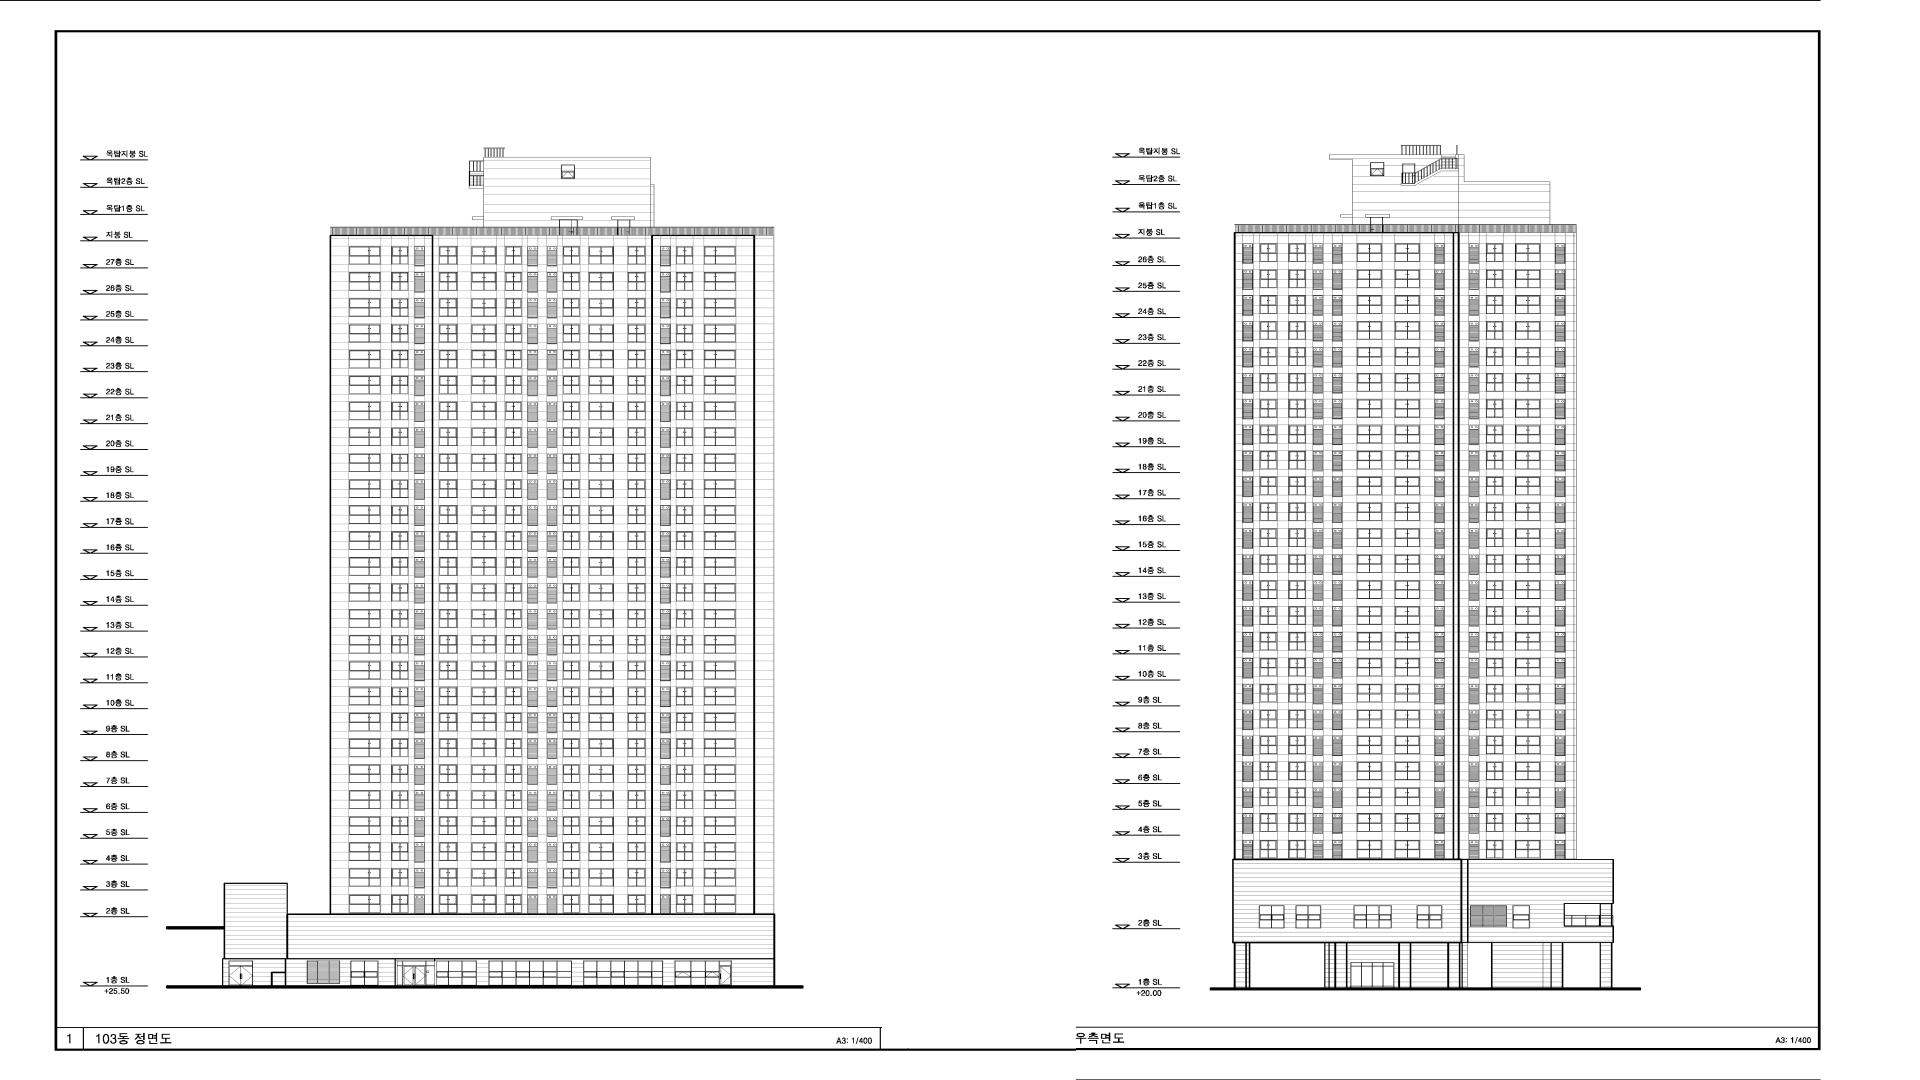door: (1250, 943, 1324, 988), (1563, 943, 1600, 988), (228, 960, 253, 985), (402, 961, 426, 985), (559, 219, 578, 236), (1402, 164, 1415, 183), (720, 965, 732, 985), (617, 219, 630, 235), (1370, 218, 1383, 232)
wall: (222, 157, 775, 989), (1232, 154, 1614, 990)
window: (1350, 963, 1394, 988), (674, 961, 719, 985), (436, 960, 477, 985), (516, 960, 556, 985), (1564, 903, 1601, 927), (1354, 906, 1391, 928), (307, 960, 340, 984), (1470, 906, 1506, 927), (351, 960, 378, 985), (488, 960, 516, 985), (583, 961, 611, 985), (611, 961, 638, 985), (348, 479, 381, 498), (348, 712, 381, 732), (704, 790, 736, 810), (704, 634, 736, 654), (704, 479, 736, 498), (704, 323, 736, 343), (704, 245, 736, 265), (348, 247, 381, 265), (348, 272, 381, 290), (348, 298, 381, 316), (348, 324, 381, 343), (348, 349, 381, 368), (348, 376, 381, 394), (348, 402, 381, 421), (348, 427, 381, 446), (348, 454, 381, 472), (348, 505, 381, 524), (348, 531, 381, 550), (348, 558, 381, 576), (348, 583, 381, 601), (348, 609, 381, 628), (348, 636, 381, 654), (348, 661, 381, 679), (348, 687, 381, 705), (348, 738, 381, 757), (348, 765, 381, 783), (348, 790, 381, 808), (348, 816, 381, 835), (348, 843, 381, 861), (348, 868, 381, 886), (348, 894, 381, 913), (638, 961, 663, 985), (1295, 906, 1321, 928), (704, 894, 736, 913), (704, 868, 736, 886), (704, 843, 736, 861), (704, 816, 736, 835), (704, 765, 736, 783), (704, 738, 736, 757), (704, 712, 736, 731), (704, 687, 736, 705), (704, 661, 736, 679), (704, 609, 736, 628), (704, 583, 736, 601), (704, 556, 736, 575), (704, 531, 736, 550), (704, 505, 736, 524), (704, 454, 736, 472), (704, 427, 736, 446), (704, 402, 736, 421), (704, 376, 736, 394), (704, 349, 736, 368), (704, 298, 736, 316), (704, 272, 736, 290), (1259, 906, 1284, 928), (1416, 906, 1441, 928), (471, 247, 497, 265), (471, 894, 497, 913), (471, 868, 497, 886), (471, 843, 497, 861), (471, 816, 497, 835), (471, 790, 497, 808), (471, 765, 497, 783), (471, 738, 497, 757), (471, 712, 497, 731), (471, 687, 497, 705), (471, 636, 497, 654), (471, 609, 497, 628), (471, 558, 497, 576), (471, 531, 497, 550), (471, 505, 497, 524), (471, 454, 497, 472), (471, 427, 497, 446), (471, 402, 497, 421), (471, 376, 497, 394), (471, 349, 497, 368), (471, 324, 497, 343), (471, 298, 497, 316), (471, 272, 497, 290), (588, 247, 615, 265), (588, 376, 615, 394), (588, 402, 615, 421), (588, 505, 615, 524), (588, 609, 615, 628), (588, 738, 615, 757), (588, 765, 615, 783), (588, 790, 615, 808), (1515, 269, 1542, 287), (1515, 322, 1542, 340), (1515, 425, 1542, 443), (1515, 554, 1542, 572), (1515, 684, 1542, 703), (1515, 787, 1542, 806), (1515, 814, 1542, 832), (1394, 840, 1420, 858), (1394, 787, 1420, 806), (1394, 425, 1420, 443), (1394, 400, 1420, 418), (1394, 373, 1420, 392), (1394, 347, 1420, 365), (1394, 269, 1420, 287), (471, 661, 496, 679), (471, 583, 496, 601), (471, 480, 496, 498), (588, 272, 613, 290), (588, 298, 613, 316), (588, 324, 613, 343), (588, 349, 613, 368), (588, 427, 613, 446), (588, 454, 613, 472), (588, 531, 613, 550), (588, 558, 613, 576), (588, 583, 613, 601), (588, 661, 613, 679), (588, 687, 613, 705), (588, 712, 613, 731), (588, 816, 613, 835), (588, 868, 613, 886), (588, 894, 613, 913), (1515, 244, 1540, 262), (1515, 295, 1540, 314), (1515, 347, 1540, 365), (1515, 373, 1540, 392), (1515, 451, 1540, 469), (1515, 476, 1540, 495), (1515, 502, 1540, 521), (1515, 529, 1540, 547), (1515, 580, 1540, 599), (1515, 607, 1540, 625), (1515, 632, 1540, 650), (1515, 709, 1540, 728), (1515, 736, 1540, 754), (1357, 451, 1382, 469), (1357, 476, 1382, 495), (1357, 502, 1382, 521), (1357, 529, 1382, 547), (1357, 580, 1382, 599), (1357, 632, 1382, 650), (1357, 658, 1382, 676), (1357, 684, 1382, 703), (1357, 709, 1382, 728), (1357, 736, 1382, 754), (1357, 787, 1382, 806), (1357, 840, 1382, 858), (1515, 840, 1540, 858), (1395, 761, 1420, 779), (1395, 736, 1420, 754), (1395, 709, 1420, 728), (1395, 684, 1420, 703), (1395, 658, 1420, 676), (1395, 632, 1420, 650), (1395, 607, 1420, 625), (1395, 580, 1420, 599), (1395, 554, 1420, 572), (1395, 529, 1420, 547), (1395, 502, 1420, 521), (1395, 476, 1420, 495), (1395, 451, 1420, 469), (1395, 322, 1420, 340), (1395, 295, 1420, 314), (1357, 269, 1382, 287), (1357, 295, 1382, 314), (1357, 322, 1382, 340), (1357, 347, 1382, 365), (1357, 373, 1382, 392), (1357, 400, 1382, 418), (1357, 425, 1382, 443), (1515, 400, 1542, 417), (1394, 244, 1420, 261), (588, 480, 613, 497), (588, 636, 613, 653), (588, 843, 613, 860), (1515, 658, 1540, 675), (1515, 762, 1540, 779), (1357, 555, 1382, 572), (1357, 607, 1382, 624), (1357, 762, 1382, 779), (1357, 814, 1382, 831), (1395, 814, 1420, 831), (1357, 244, 1382, 261), (1513, 906, 1531, 928), (628, 634, 646, 654), (626, 531, 646, 550), (628, 323, 646, 343), (628, 790, 646, 810), (558, 960, 572, 985), (628, 712, 646, 731), (628, 687, 646, 705), (628, 661, 646, 679), (628, 609, 646, 628), (628, 583, 646, 601), (628, 558, 646, 576), (628, 505, 646, 524), (628, 480, 646, 498), (628, 454, 646, 472), (628, 427, 646, 446), (628, 402, 646, 421), (628, 376, 646, 394), (628, 349, 646, 368), (628, 298, 646, 316), (628, 272, 646, 290), (628, 247, 646, 265), (439, 687, 458, 705), (439, 661, 458, 679), (439, 636, 458, 654), (439, 609, 458, 628), (439, 583, 458, 601), (439, 556, 458, 575), (439, 531, 458, 550), (439, 505, 458, 524), (439, 479, 458, 497), (439, 454, 458, 472), (439, 427, 458, 446), (439, 376, 458, 394), (439, 349, 458, 368), (439, 324, 458, 343), (439, 298, 458, 316), (439, 272, 458, 290), (439, 247, 458, 265), (675, 712, 694, 731), (628, 894, 646, 913), (628, 868, 646, 886), (628, 843, 646, 861), (628, 816, 646, 835), (628, 765, 646, 783), (628, 738, 646, 757), (439, 894, 458, 913), (439, 868, 458, 886), (439, 843, 458, 861), (439, 816, 458, 835), (439, 790, 458, 808), (439, 765, 458, 783), (439, 738, 458, 757), (439, 712, 458, 731), (1259, 761, 1278, 779), (1259, 658, 1278, 676), (1259, 607, 1278, 625), (1259, 502, 1278, 521), (676, 245, 694, 265), (392, 245, 409, 265), (392, 479, 409, 498), (392, 712, 409, 732), (1288, 554, 1305, 574), (1261, 243, 1278, 262), (676, 272, 694, 290), (676, 298, 694, 316), (676, 324, 694, 343), (676, 349, 694, 368), (676, 376, 694, 394), (676, 402, 694, 421), (676, 427, 694, 446), (676, 454, 694, 472), (676, 479, 694, 497), (676, 505, 694, 524), (676, 531, 694, 550), (676, 583, 694, 601), (676, 609, 694, 628), (676, 636, 694, 654), (439, 402, 458, 419), (392, 272, 409, 290), (392, 298, 409, 316), (392, 324, 409, 343), (392, 349, 409, 368), (392, 376, 409, 394), (392, 402, 409, 421), (392, 427, 409, 446), (392, 454, 409, 472), (392, 505, 409, 524), (392, 531, 409, 550), (392, 558, 409, 576), (392, 583, 409, 601), (392, 609, 409, 628), (392, 636, 409, 654), (392, 661, 409, 679), (676, 661, 694, 679), (676, 687, 694, 705), (676, 738, 694, 757), (676, 765, 694, 783), (676, 790, 694, 808), (676, 816, 694, 835), (676, 843, 694, 861), (676, 868, 694, 886), (676, 894, 694, 913), (563, 894, 580, 913), (563, 868, 580, 886), (563, 843, 580, 861), (563, 816, 580, 835), (563, 790, 580, 808), (563, 765, 580, 783), (563, 738, 580, 757), (563, 712, 580, 731), (563, 687, 580, 705), (563, 661, 580, 679), (563, 636, 580, 654), (563, 609, 580, 628), (563, 583, 580, 601), (563, 558, 580, 576), (563, 531, 580, 550), (563, 505, 580, 524), (563, 480, 580, 498), (563, 454, 580, 472), (563, 427, 580, 446), (563, 376, 580, 394), (563, 349, 580, 368), (563, 324, 580, 343), (563, 298, 580, 316), (563, 272, 580, 290), (392, 687, 409, 705), (392, 738, 409, 757), (392, 765, 409, 783), (392, 790, 409, 808), (392, 816, 409, 835), (392, 843, 409, 861), (392, 868, 409, 886), (392, 894, 409, 913), (563, 245, 580, 264), (505, 247, 522, 265), (505, 272, 522, 290), (505, 298, 522, 316), (505, 324, 522, 343), (505, 349, 522, 368), (505, 376, 522, 394), (505, 402, 522, 421), (505, 427, 522, 446), (505, 454, 522, 472), (505, 479, 522, 497), (505, 505, 522, 524), (505, 531, 522, 550), (505, 583, 522, 601), (505, 609, 522, 628), (505, 636, 522, 654), (505, 661, 522, 679), (505, 687, 522, 705), (505, 712, 522, 731), (505, 738, 522, 757), (505, 765, 522, 783), (505, 790, 522, 808), (505, 816, 522, 835), (505, 843, 522, 861), (505, 868, 522, 886), (505, 894, 522, 913), (1486, 347, 1503, 365), (1486, 322, 1503, 340), (1486, 295, 1503, 314), (1486, 269, 1503, 287), (1486, 244, 1503, 262), (1288, 244, 1305, 262), (1288, 269, 1305, 287), (1288, 295, 1305, 314), (1288, 322, 1305, 340), (1288, 347, 1305, 365), (1288, 373, 1305, 392), (1288, 425, 1305, 443), (1288, 451, 1305, 469), (1288, 477, 1305, 496), (1288, 502, 1305, 521), (1288, 529, 1305, 547), (1288, 580, 1305, 599), (1288, 607, 1305, 625), (1288, 632, 1305, 650), (1288, 658, 1305, 676), (1288, 684, 1305, 703), (1288, 709, 1305, 728), (1288, 736, 1305, 754), (1288, 762, 1305, 781), (1288, 787, 1305, 806), (1288, 814, 1305, 832), (1288, 840, 1305, 858), (1259, 840, 1276, 858), (1259, 814, 1276, 832), (1259, 787, 1276, 806), (1261, 736, 1278, 754), (1259, 709, 1276, 728), (1486, 840, 1503, 858), (1486, 814, 1503, 832), (1486, 787, 1503, 806), (1486, 761, 1503, 779), (1486, 736, 1503, 754), (1486, 709, 1503, 728), (1486, 684, 1503, 703), (1486, 658, 1503, 676), (1486, 632, 1503, 650), (1486, 580, 1503, 599), (1486, 554, 1503, 572), (1486, 529, 1503, 547), (1486, 502, 1503, 521), (1486, 451, 1503, 469), (1486, 425, 1503, 443), (1486, 398, 1503, 417), (1486, 373, 1503, 392), (1259, 684, 1276, 703), (1259, 632, 1276, 650), (1259, 580, 1276, 599), (1259, 554, 1276, 572), (1259, 529, 1276, 547), (1259, 476, 1276, 495), (1259, 451, 1276, 469), (1261, 425, 1278, 443), (1259, 400, 1276, 418), (1259, 373, 1276, 392), (1259, 347, 1276, 365), (1259, 322, 1276, 340), (1261, 295, 1278, 314), (1259, 269, 1276, 287), (676, 558, 694, 575), (563, 402, 580, 419), (505, 558, 522, 575), (1288, 400, 1305, 417), (1486, 607, 1503, 624), (1486, 477, 1503, 495), (659, 556, 671, 578), (659, 272, 671, 293), (659, 894, 671, 914), (546, 765, 558, 785), (659, 843, 671, 862), (659, 505, 671, 525), (546, 247, 558, 266), (546, 298, 558, 318), (546, 376, 558, 396), (1242, 322, 1254, 342), (1242, 348, 1254, 368), (1242, 425, 1254, 444), (1242, 607, 1254, 626), (1242, 814, 1254, 833), (1312, 244, 1324, 264), (414, 349, 425, 371), (414, 427, 425, 448), (414, 479, 425, 500), (414, 583, 425, 604), (414, 661, 425, 682), (414, 712, 425, 733), (414, 790, 425, 811), (414, 868, 425, 889), (527, 868, 538, 889), (527, 790, 538, 811), (547, 661, 558, 682), (547, 712, 558, 733), (547, 868, 558, 889), (661, 868, 671, 889), (659, 790, 670, 811), (661, 712, 671, 733), (661, 661, 671, 682), (661, 583, 671, 604), (661, 479, 671, 500), (661, 427, 671, 448), (659, 349, 670, 371), (661, 323, 671, 344), (527, 712, 538, 733), (527, 661, 538, 682), (527, 583, 538, 604), (527, 349, 538, 371), (527, 272, 538, 293), (547, 349, 558, 371), (547, 427, 558, 448), (547, 505, 558, 526), (547, 556, 558, 578), (547, 583, 558, 604), (1242, 269, 1253, 290), (1242, 476, 1253, 497), (1242, 502, 1253, 524), (1242, 554, 1253, 575), (1242, 632, 1253, 653), (1244, 709, 1254, 731), (1555, 476, 1565, 497), (1555, 398, 1565, 419), (1312, 709, 1323, 731), (1313, 554, 1324, 575), (1313, 502, 1324, 524), (1313, 476, 1324, 497), (1313, 347, 1324, 368), (1313, 269, 1324, 290), (1332, 269, 1342, 290), (1332, 347, 1342, 368), (1332, 425, 1342, 446), (1332, 502, 1342, 524), (1332, 554, 1342, 575), (1469, 269, 1480, 290), (1469, 347, 1480, 368), (1469, 425, 1480, 446), (1469, 476, 1480, 497), (1469, 502, 1480, 524), (1469, 554, 1480, 575), (1469, 632, 1480, 653), (1469, 709, 1480, 731), (1469, 761, 1480, 782), (1555, 709, 1565, 731), (1555, 632, 1565, 653), (1332, 580, 1342, 601), (1332, 709, 1342, 731), (1435, 709, 1445, 731), (1435, 632, 1445, 653), (1433, 502, 1444, 524), (1433, 476, 1444, 497), (1435, 347, 1445, 368), (1435, 269, 1445, 290), (560, 165, 575, 179), (1370, 162, 1385, 177), (414, 247, 425, 266), (414, 272, 425, 291), (414, 298, 425, 318), (414, 324, 425, 344), (414, 376, 425, 396), (414, 402, 425, 422), (414, 454, 425, 473), (414, 505, 425, 525), (414, 531, 425, 551), (414, 558, 425, 578), (414, 609, 425, 629), (414, 636, 425, 655), (414, 687, 425, 707), (414, 738, 425, 758), (414, 765, 425, 785), (414, 816, 425, 836), (414, 843, 425, 862), (414, 894, 425, 914), (527, 894, 538, 914), (547, 894, 558, 914), (527, 843, 538, 862), (527, 816, 538, 836), (527, 765, 538, 785), (547, 636, 558, 655), (547, 687, 558, 707), (547, 738, 558, 758), (547, 791, 558, 811), (547, 816, 558, 836), (547, 843, 558, 862), (661, 816, 671, 836), (661, 765, 671, 785), (661, 738, 671, 758), (661, 687, 671, 707), (661, 636, 671, 655), (661, 609, 671, 629), (661, 531, 671, 551), (661, 454, 671, 473), (661, 402, 671, 422), (661, 376, 671, 396), (661, 298, 671, 318), (661, 247, 671, 266), (527, 738, 538, 758), (527, 687, 538, 707), (527, 636, 538, 655), (527, 609, 538, 629), (527, 558, 538, 578), (527, 531, 538, 551), (527, 505, 538, 525), (527, 480, 538, 500), (527, 454, 538, 473), (527, 427, 538, 447), (527, 402, 538, 422), (527, 376, 538, 396), (527, 324, 538, 344), (527, 298, 538, 318), (527, 247, 538, 266), (547, 272, 558, 291), (547, 324, 558, 344), (547, 402, 558, 422), (547, 454, 558, 473), (547, 480, 558, 500), (547, 531, 558, 551), (547, 609, 558, 629), (1242, 244, 1253, 264), (1242, 295, 1253, 315), (1242, 373, 1253, 393), (1242, 400, 1253, 419), (1242, 451, 1253, 471), (1244, 529, 1254, 549), (1242, 580, 1253, 600), (1242, 658, 1253, 678), (1242, 684, 1253, 704), (1242, 736, 1253, 756), (1244, 762, 1254, 782), (1242, 787, 1253, 807), (1242, 840, 1253, 860), (1312, 840, 1323, 860), (1332, 840, 1342, 860), (1313, 814, 1324, 833), (1312, 787, 1323, 807), (1555, 580, 1565, 600), (1555, 555, 1565, 575), (1555, 529, 1565, 549), (1555, 502, 1565, 522), (1555, 451, 1565, 471), (1555, 425, 1565, 444), (1555, 373, 1565, 393), (1555, 347, 1565, 367), (1555, 322, 1565, 342), (1555, 295, 1565, 315), (1555, 269, 1565, 289), (1555, 244, 1565, 264), (1313, 762, 1324, 782), (1312, 736, 1323, 756), (1312, 684, 1323, 704), (1312, 658, 1323, 678), (1313, 632, 1324, 651), (1313, 607, 1324, 626), (1312, 580, 1323, 600), (1312, 529, 1323, 549), (1313, 451, 1324, 471), (1312, 425, 1323, 444), (1313, 400, 1324, 419), (1313, 373, 1324, 393), (1313, 322, 1324, 342), (1312, 295, 1323, 315), (1332, 244, 1342, 264), (1332, 295, 1342, 315), (1332, 322, 1342, 342), (1332, 373, 1342, 393), (1332, 400, 1342, 419), (1332, 451, 1342, 471), (1332, 477, 1342, 497), (1332, 529, 1342, 549), (1469, 244, 1480, 264), (1469, 295, 1480, 315), (1469, 322, 1480, 342), (1469, 373, 1480, 393), (1469, 400, 1480, 419), (1469, 451, 1480, 471), (1469, 529, 1480, 549), (1469, 580, 1480, 600), (1469, 607, 1480, 626), (1469, 658, 1480, 678), (1469, 684, 1480, 704), (1469, 736, 1480, 756), (1469, 787, 1480, 807), (1469, 814, 1480, 833), (1469, 840, 1480, 860), (1555, 840, 1565, 860), (1555, 814, 1565, 833), (1555, 787, 1565, 807), (1555, 762, 1565, 782), (1555, 736, 1565, 756), (1555, 684, 1565, 704), (1555, 658, 1565, 678), (1555, 607, 1565, 626), (1332, 607, 1342, 626), (1332, 633, 1342, 653), (1332, 658, 1342, 678), (1332, 684, 1342, 704), (1332, 736, 1342, 756), (1332, 762, 1342, 782), (1332, 787, 1342, 807), (1332, 814, 1342, 833), (1435, 814, 1445, 833), (1435, 787, 1445, 807), (1435, 762, 1445, 782), (1435, 736, 1445, 756), (1435, 684, 1445, 704), (1435, 658, 1445, 678), (1435, 607, 1445, 626), (1435, 580, 1445, 600), (1435, 555, 1445, 575), (1435, 529, 1445, 549), (1435, 451, 1445, 471), (1435, 425, 1445, 444), (1435, 400, 1445, 419), (1435, 373, 1445, 393), (1435, 322, 1445, 342), (1435, 295, 1445, 315), (1435, 244, 1445, 264), (1433, 840, 1444, 858)
